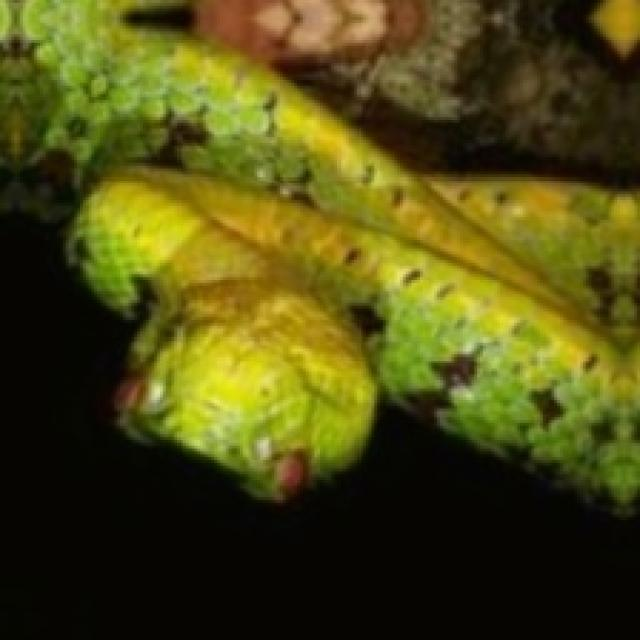philippine pitviper: (0, 0, 637, 509), (69, 169, 637, 506)
